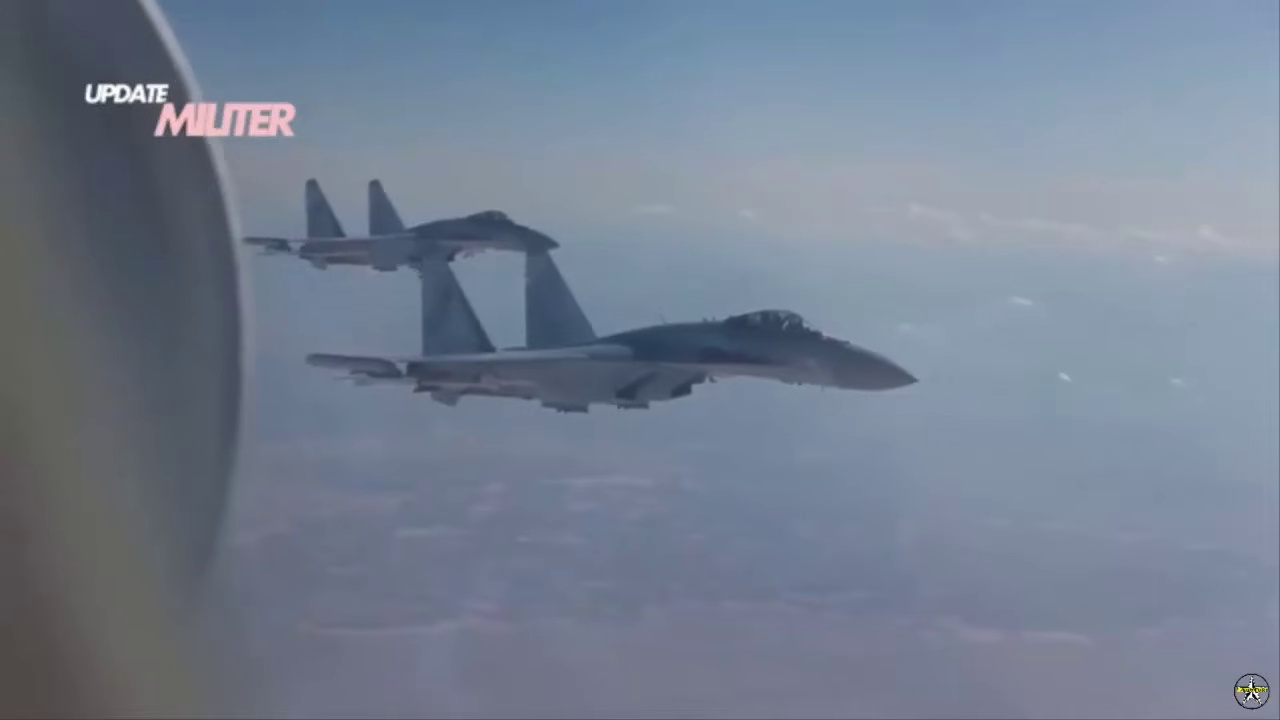Su35: (296, 238, 939, 422), (236, 172, 574, 275)
